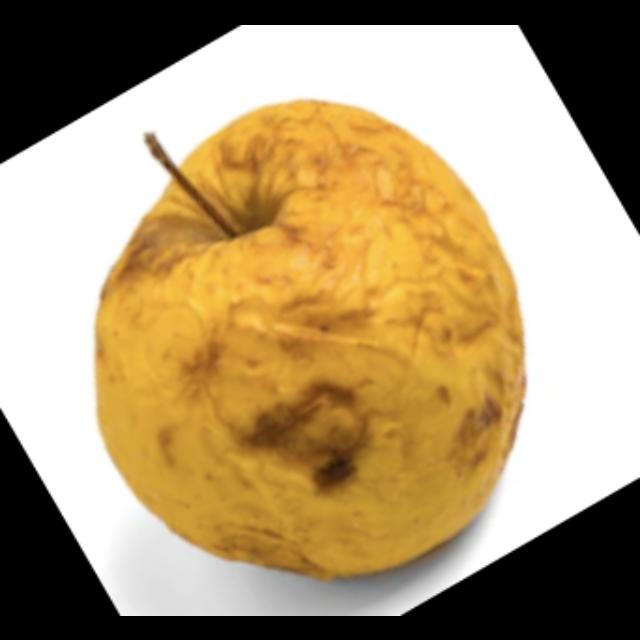Apel Tidak Segar: (91, 94, 528, 586)
